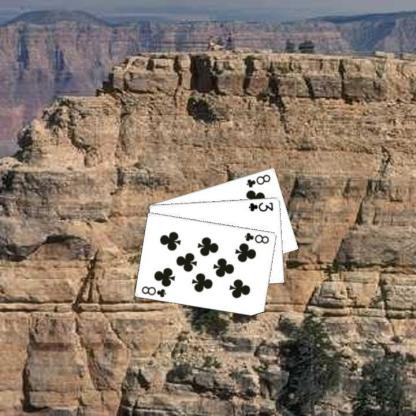3C: (246, 199, 275, 213)
8C: (244, 172, 271, 189), (242, 230, 270, 245), (139, 284, 168, 298)
